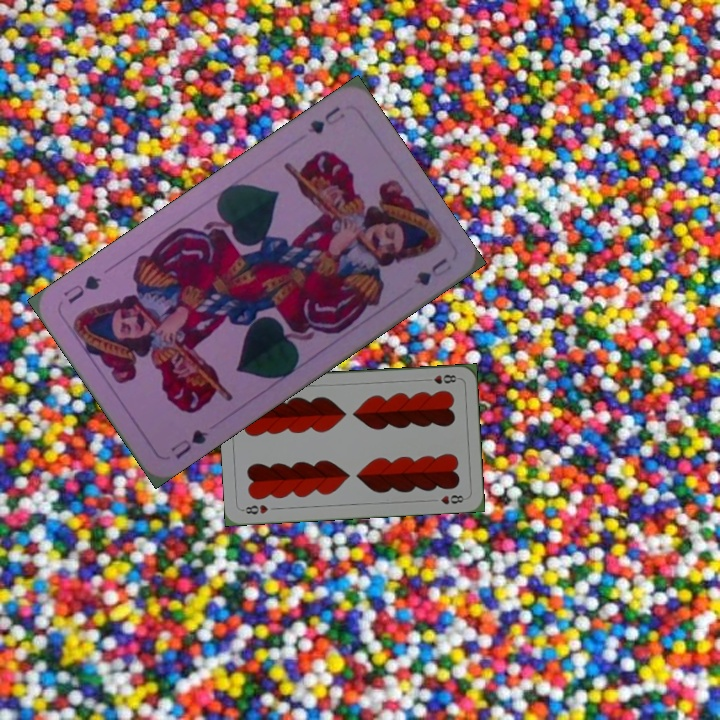GU: (167, 425, 211, 462), (303, 102, 348, 137)
H8: (420, 371, 461, 386), (239, 500, 270, 517)
